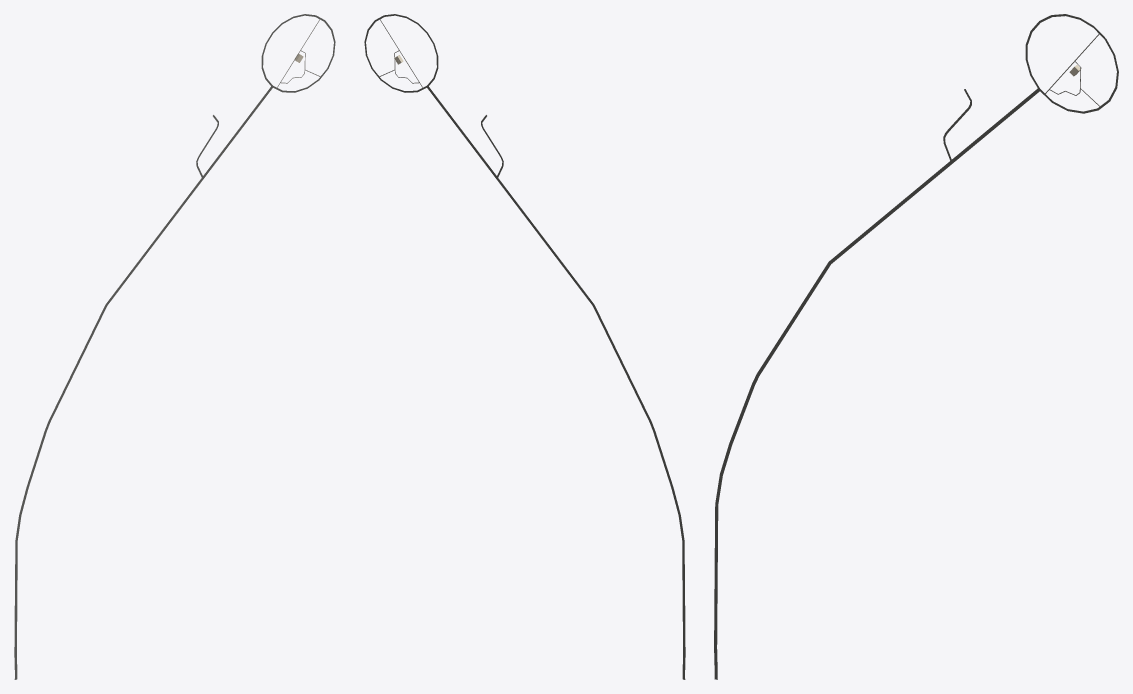
File: historic-palestine-07_29_3494_3232.glb
3 renders of one model, left to right at view 1: azimuth 30°, elevation 25°; view 2: azimuth 150°, elevation 25°; view 3: azimuth 330°, elevation 25°, orthographic. The views are drawn at different scales.
Parts seen in each view (by area): view 1: Road החרוב, Road; view 2: Road החרוב, Road; view 3: Road החרוב, Road.
Boxes of the visible parts, x1,y1,x2,y2 form: Road החרוב: (14,192,192,679); Road: (261,14,335,92); Road החרוב: (507,192,685,679); Road: (364,14,438,92); Road החרוב: (714,172,938,679); Road: (1025,14,1118,113).
Size of the model in its own units: 651 by 1153 by 8.7.
